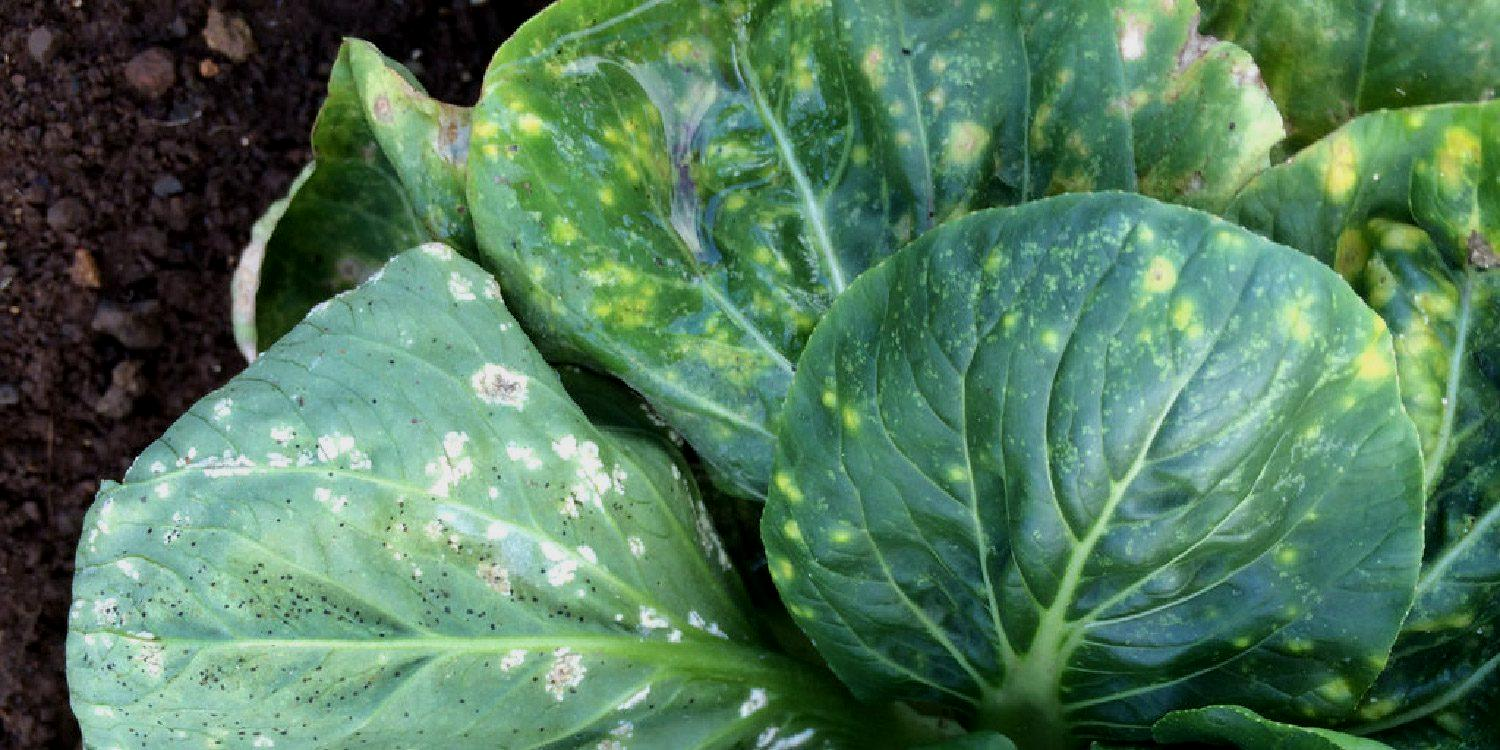Bok-Choy-Diseased: (447, 6, 1453, 750), (95, 268, 785, 750)
